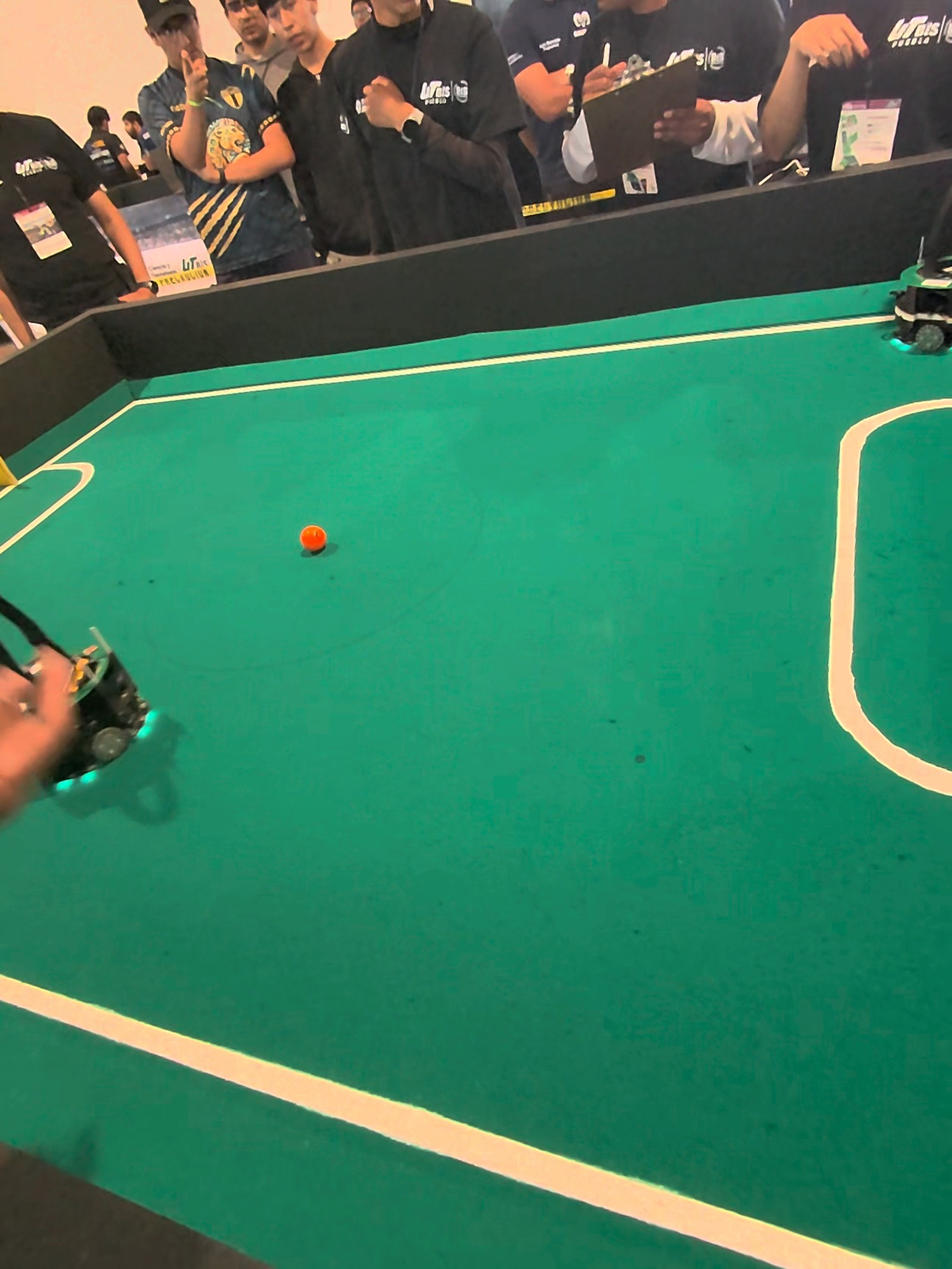Robot: (66, 628, 155, 768), (892, 182, 952, 366)
pelota: (282, 513, 340, 568)
